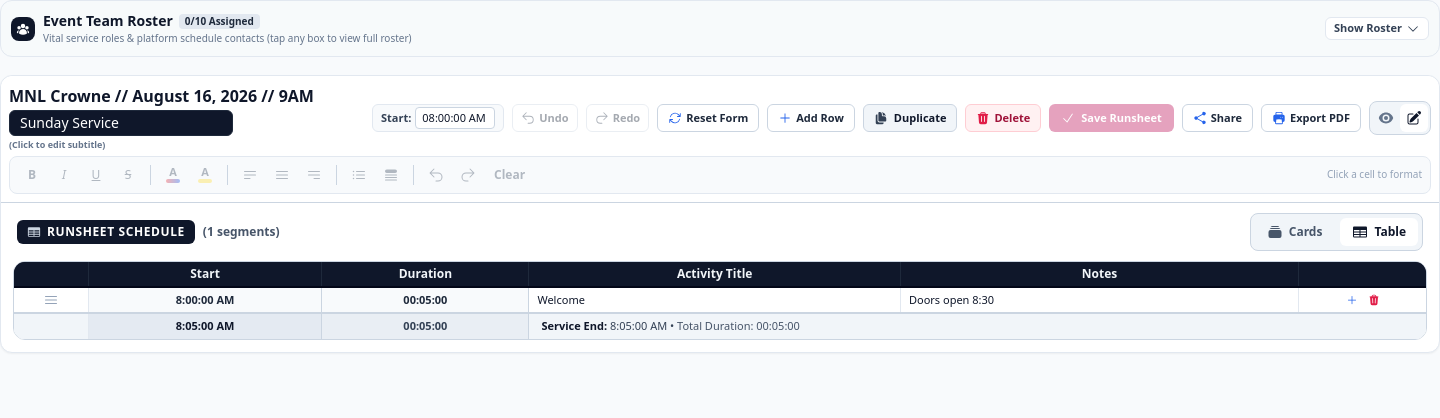
Test case: RunsheetTableEditor propagate bar › shows the propagate bar after a save that changes a propagatable cell
This screenshot has width=1440, height=418.
# Simulate editing a cell by changing initial state through user action or saving initial Dirty state
Type "Special Service" into the field with placeholder "Sunday Service". click: (121, 123)
box: [18,113,224,133]
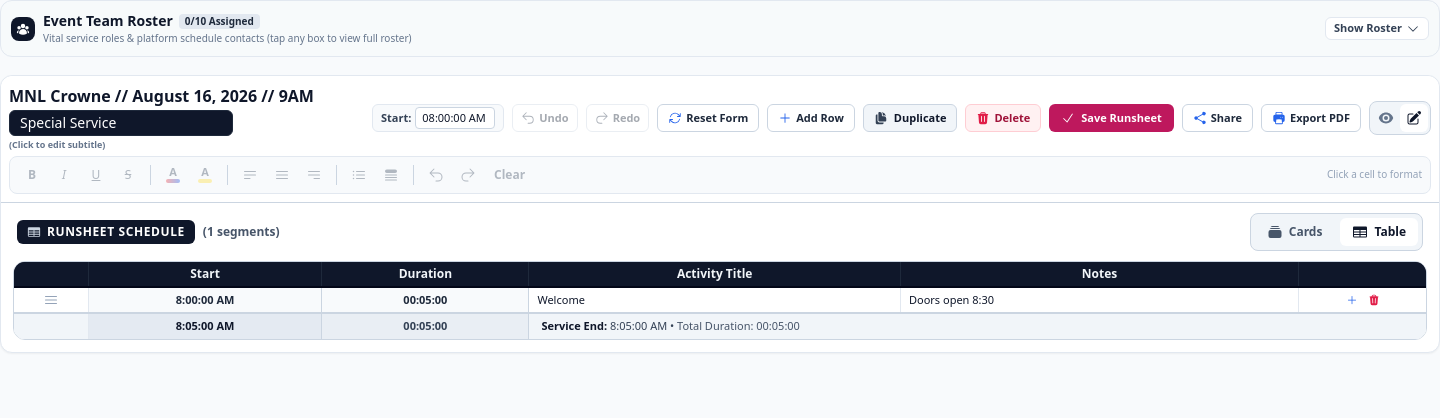
Click the button "Save Runsheet". click: (1112, 118)
box: [1049,104,1174,132]
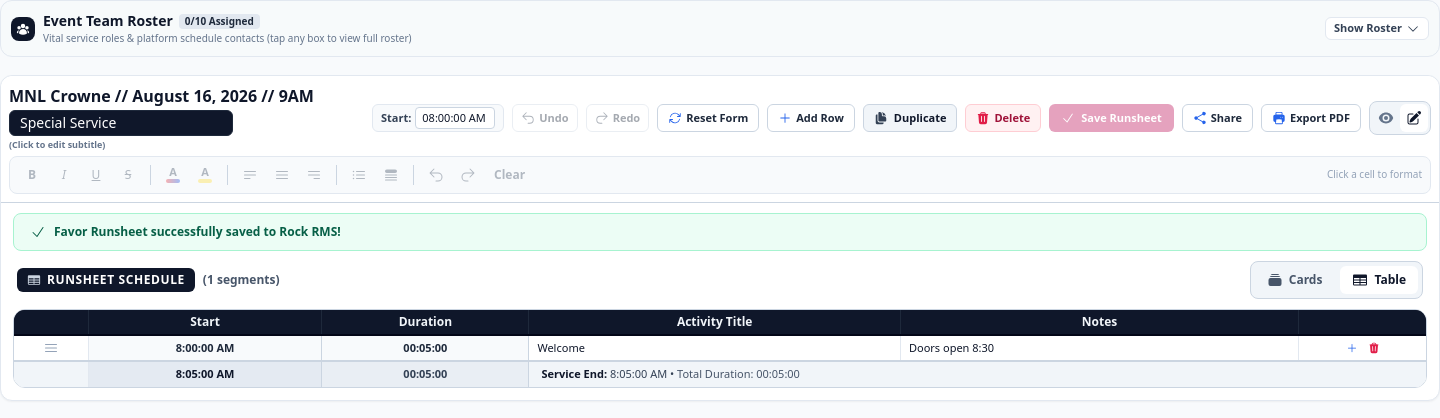
Check: the text "Favor Runsheet successfully saved to Rock RMS!" is shown, box [54,224,341,240]
